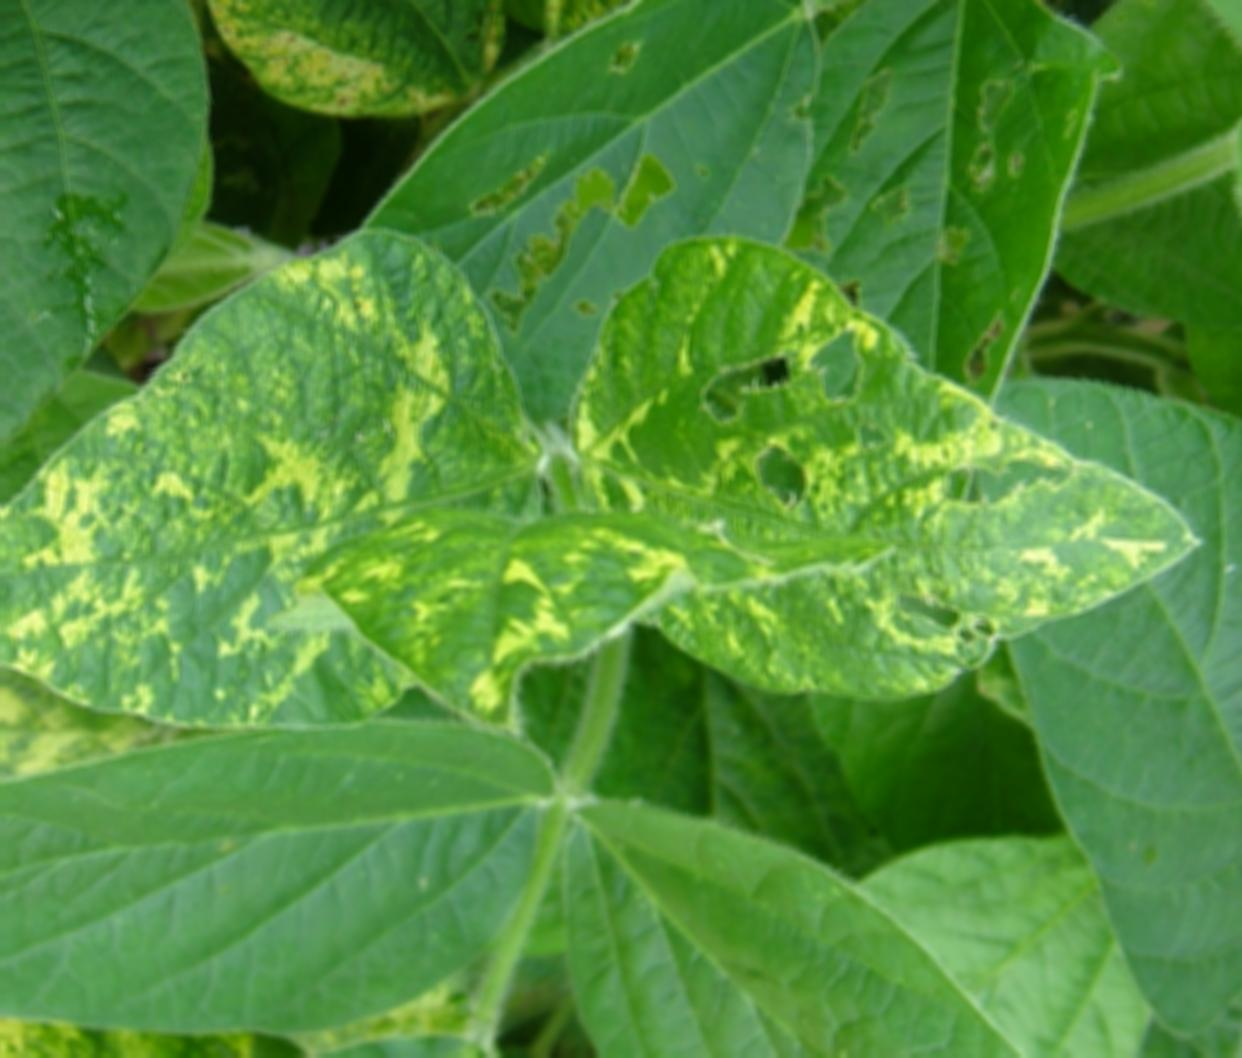Tomato leaf: (0, 717, 554, 1048)
Tomato leaf mosaic virus: (572, 230, 1199, 727), (0, 247, 530, 707)
